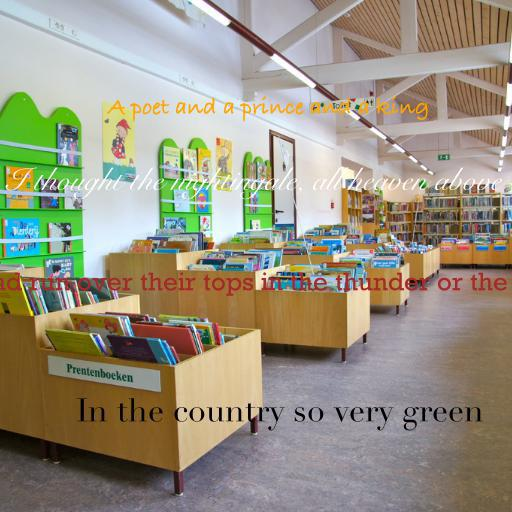Bradley Hand: (107, 96, 429, 122)
Didot: (76, 398, 484, 431)
Rockwell: (0, 272, 512, 296)
Snell Roundhand: (6, 167, 502, 200)
